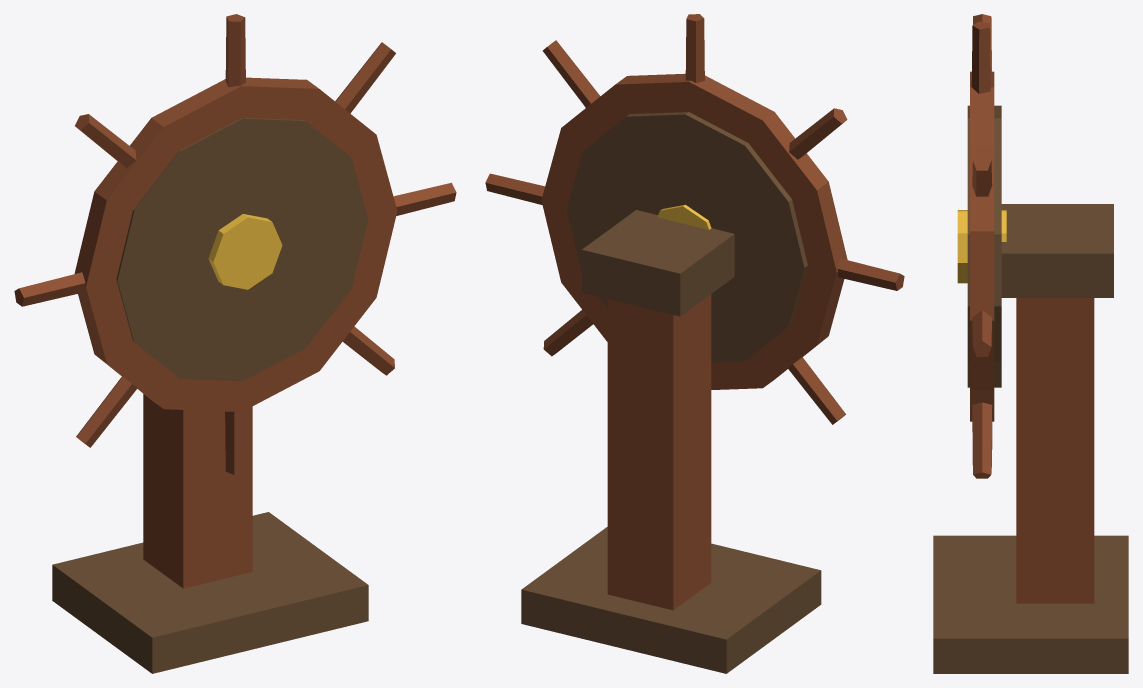
File: Ship_Wheel.glb
3 renders of one model, left to right at view 1: azimuth 30°, elevation 25°; view 2: azimuth 150°, elevation 25°; view 3: azimuth 270°, elevation 25°, orthographic. The views are drawn at different scales.
Parts seen in each view (by area): view 1: Ship_Wheel; view 2: Ship_Wheel; view 3: Ship_Wheel.
Boxes of the visible parts, bbox=[...] form: Ship_Wheel: bbox=[14, 14, 456, 673]; Ship_Wheel: bbox=[485, 14, 904, 673]; Ship_Wheel: bbox=[933, 14, 1128, 673].
Bounding box in the file's own units: 1 × 1.35 × 0.4.
Materials: 1 (1 with a texture image).
